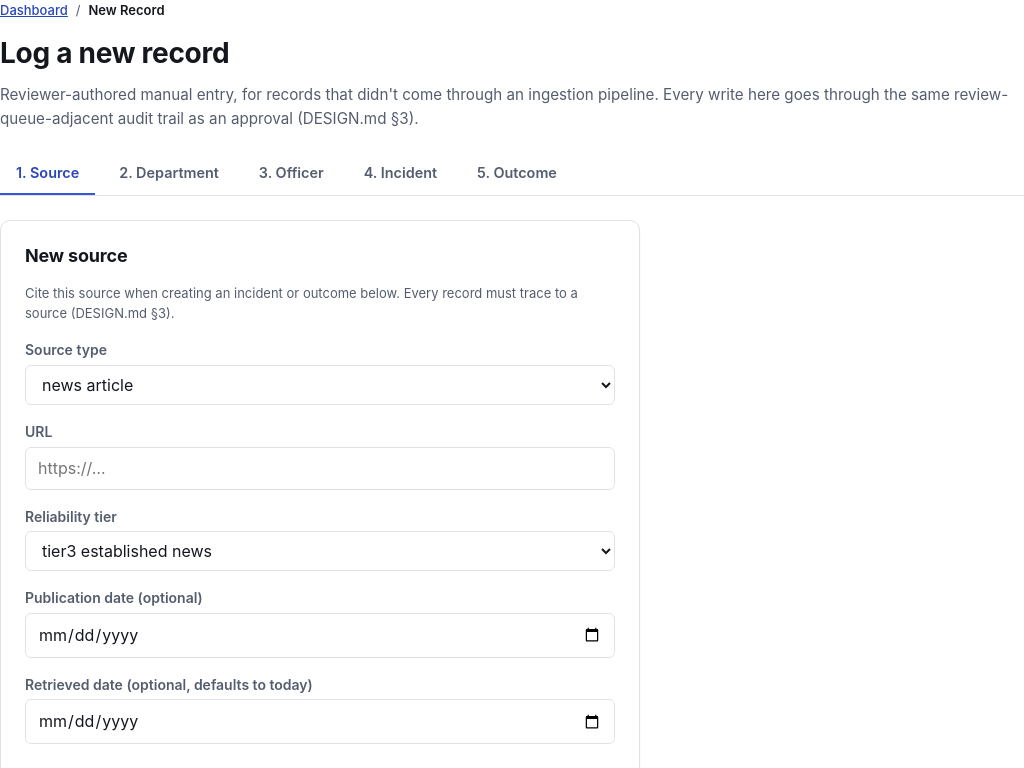
Test: NewRecordPage › shows a running per-type session summary as records are created
Type "https://example.org/a" into the field labelled "URL" at (320, 468), box [25,447,615,490]
(page scrolled)
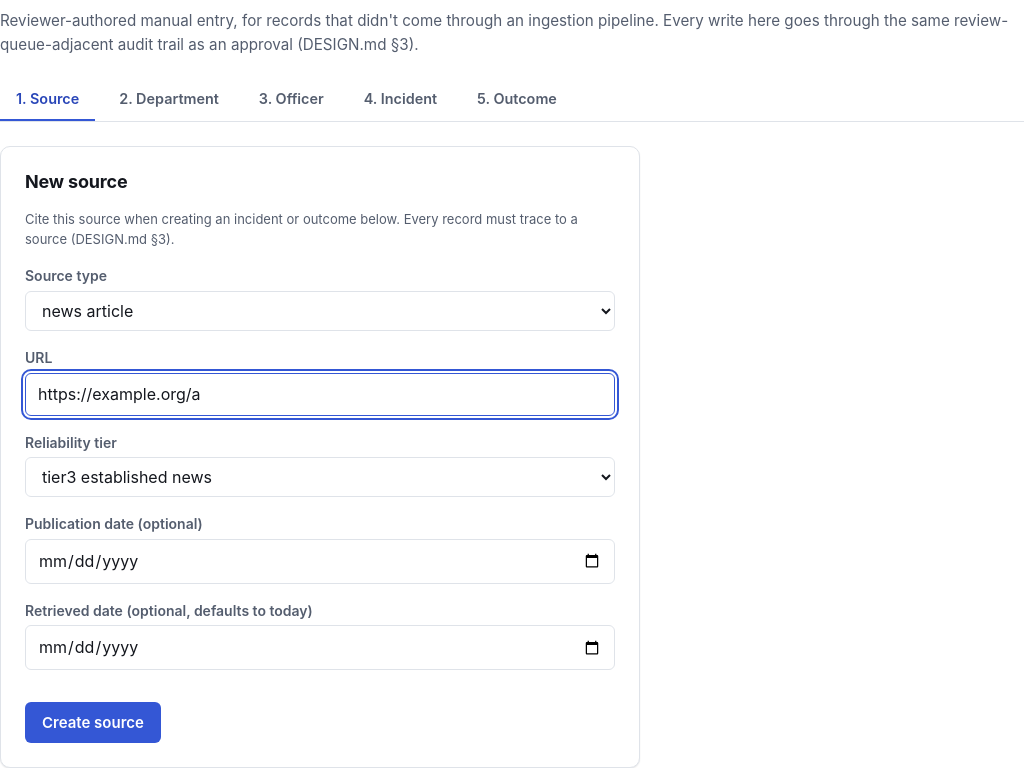
Click the button "Create source" at (93, 723), box [25,702,161,744]
(page scrolled)
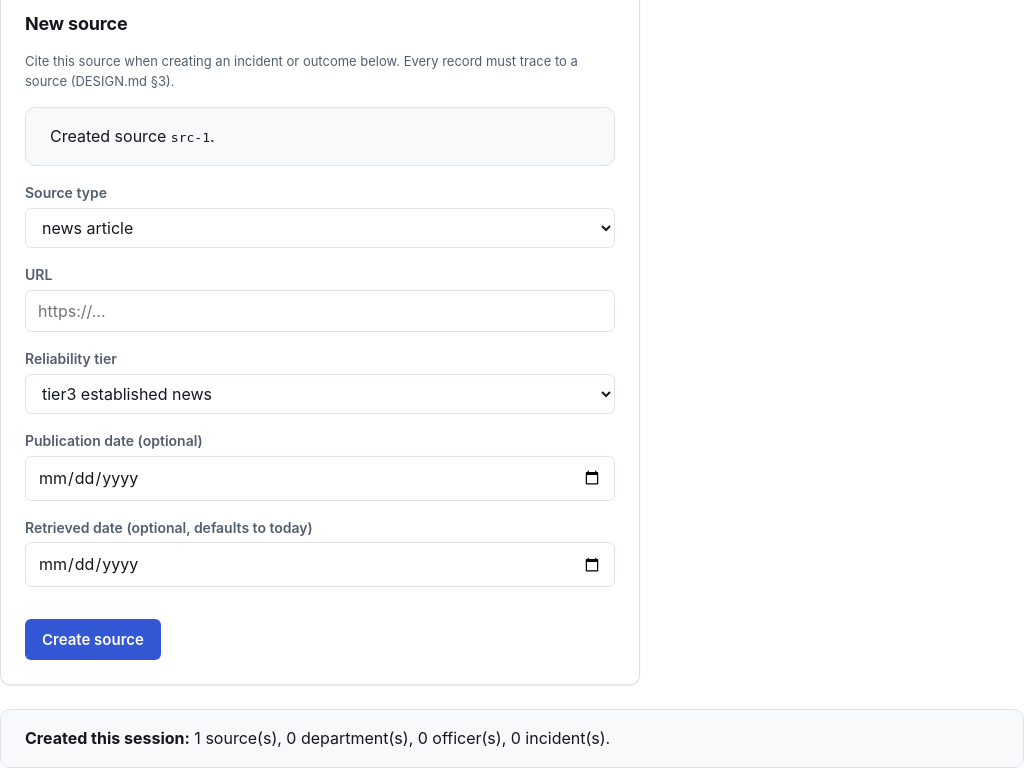
Expected: the text "Created source src-1." is shown, [25,107,615,166]
Expected: the element with class "session-summary" reads "Created this session: 1 source(s), 0 department(s), 0 officer(s), 0 incident(s).", [0,709,1023,767]
